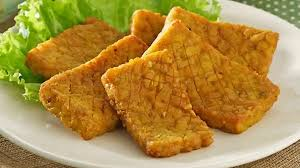Tempe goreng: (97, 47, 217, 158), (177, 19, 282, 137), (35, 61, 121, 146), (194, 9, 284, 67), (24, 20, 122, 73)
